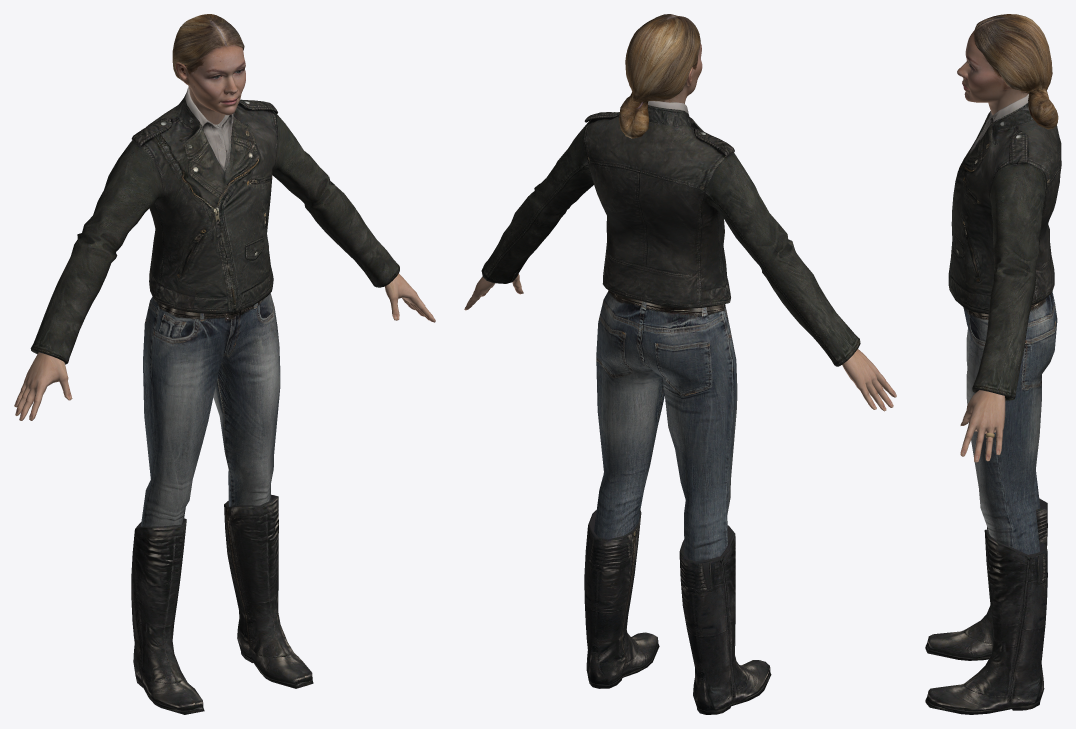
Rendered from Alice_Wake.obj.
The picture shows the model from 3 angles, left to right: view 1: azimuth 30°, elevation 25°; view 2: azimuth 150°, elevation 25°; view 3: azimuth 270°, elevation 25°; orthographic projection. The views are drawn at different scales.
Bounding box in the file's own units: 2.29 × 3.47 × 0.6482.
Materials: 10 (10 with a texture image).
